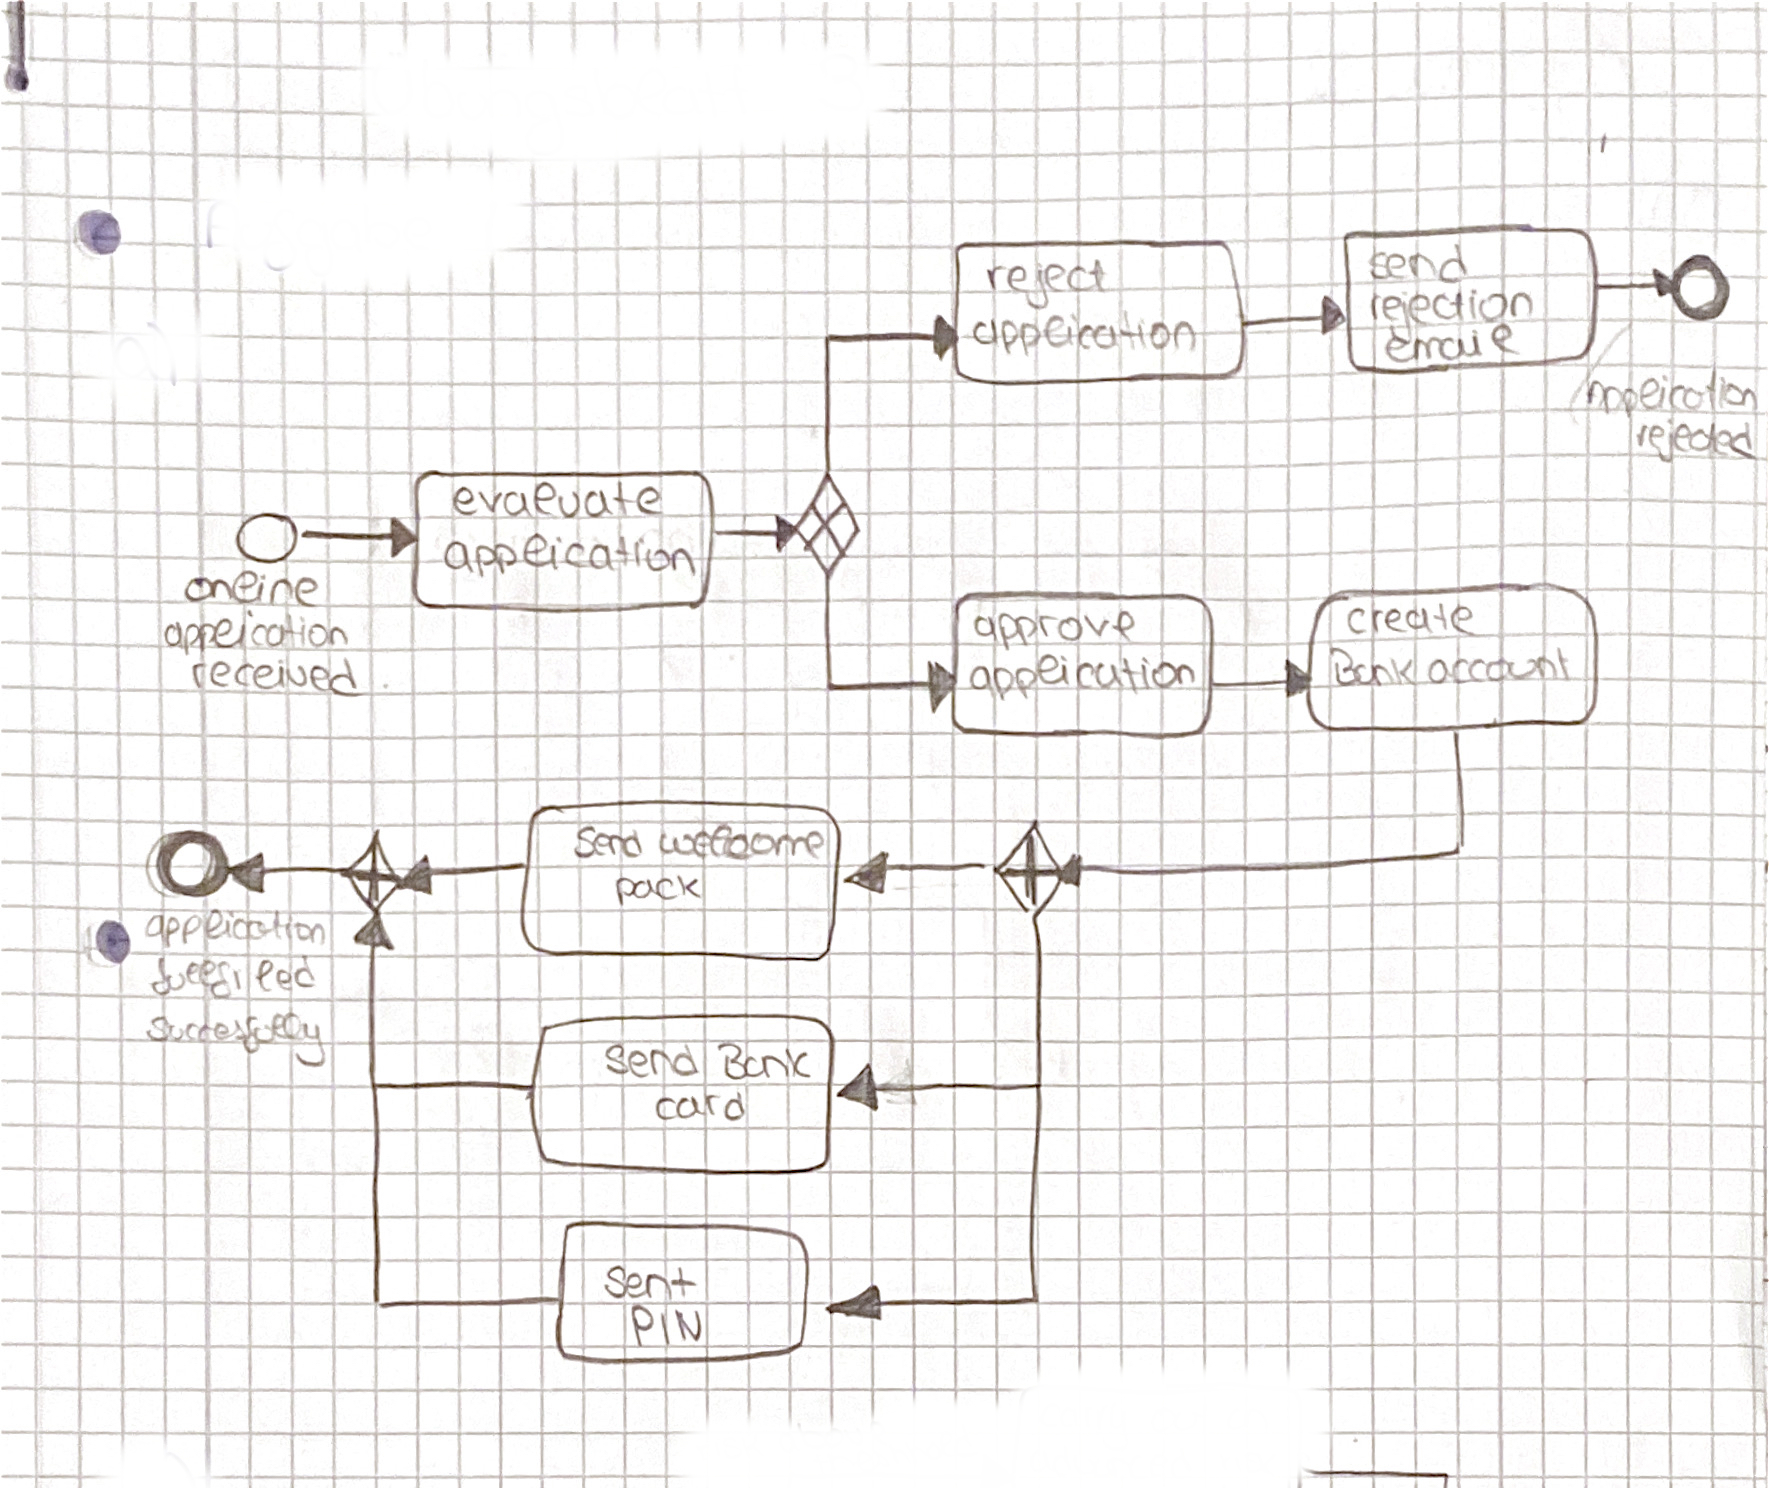Bank: (713, 1035, 812, 1088), (1330, 645, 1418, 692)
PIN: (629, 1296, 709, 1357)
account: (1426, 644, 1589, 692)
application: (966, 651, 1203, 709), (446, 533, 700, 580), (975, 313, 1198, 359), (145, 896, 329, 951), (162, 611, 350, 655), (1574, 373, 1759, 416)
approve: (969, 605, 1138, 648)
card: (651, 1085, 749, 1143)
create: (1347, 599, 1483, 641)
email: (1382, 323, 1519, 365)
evaluate: (453, 480, 662, 523)
fullfiled: (131, 954, 334, 996)
online: (182, 562, 326, 613)
pack: (605, 865, 710, 906)
received: (189, 657, 360, 698)
reject: (978, 254, 1124, 306)
rejected: (1630, 419, 1759, 461)
rejection: (1360, 285, 1537, 331)
send: (1363, 238, 1487, 286), (602, 1042, 709, 1081), (574, 825, 662, 862)
sent: (598, 1261, 695, 1309)
succesfully: (148, 1011, 329, 1064)
welcome: (651, 825, 828, 862)
